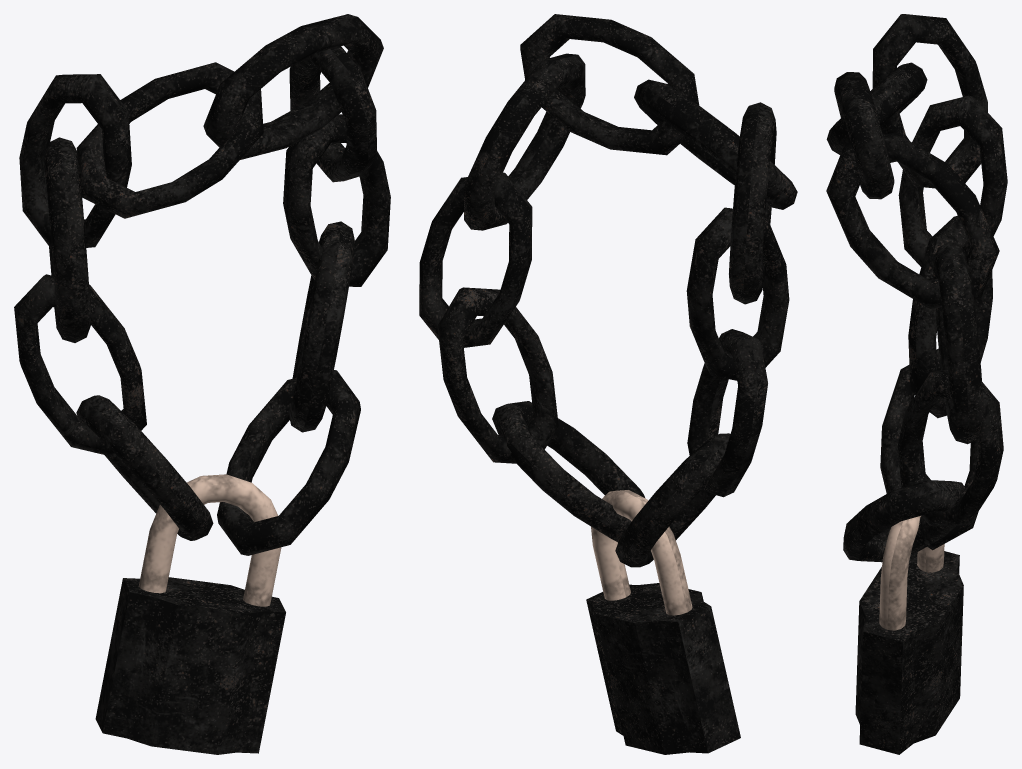
Rendered from SM_Lock.fbx.
3 views of the same model, side by side, from view 1: azimuth 30°, elevation 25°; view 2: azimuth 150°, elevation 25°; view 3: azimuth 270°, elevation 25° (orthographic). The views are drawn at different scales.
Parts seen in each view (by area): view 1: SM_Lock; view 2: SM_Lock; view 3: SM_Lock.
Part boxes in pixels (box(x1,y1,x2,y2)): SM_Lock: box(14, 14, 390, 754); SM_Lock: box(419, 14, 797, 754); SM_Lock: box(826, 14, 1007, 754).
Size of the model in its own units: 26.61 by 49.96 by 11.94.
